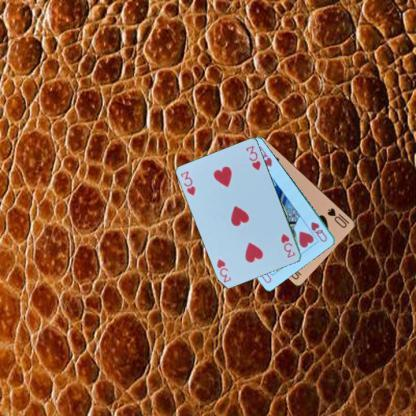10s: (324, 204, 350, 230)
3h: (178, 168, 197, 198), (278, 232, 297, 258)
Qh: (308, 219, 328, 244)
